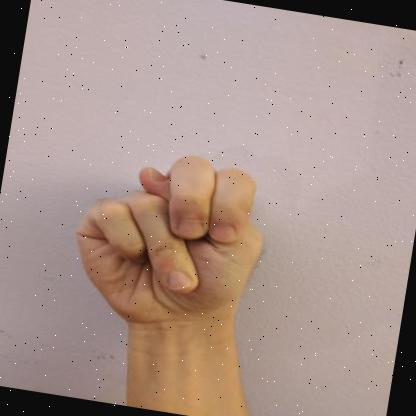N: (76, 155, 262, 344)
